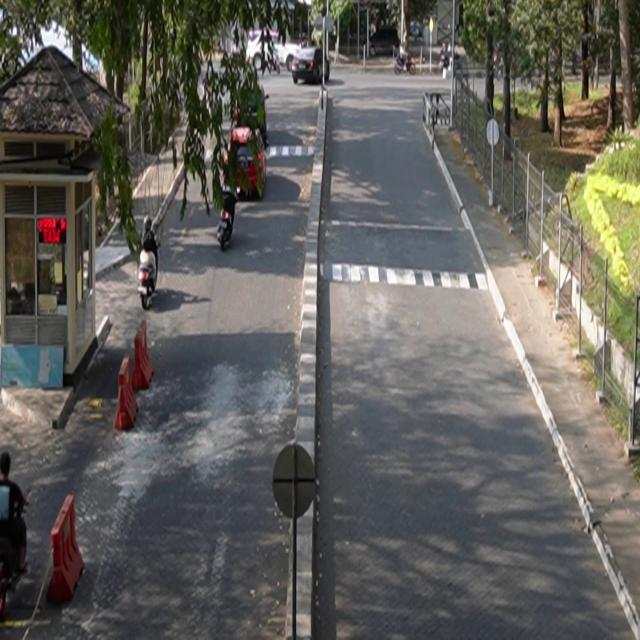car: (293, 47, 331, 85)
